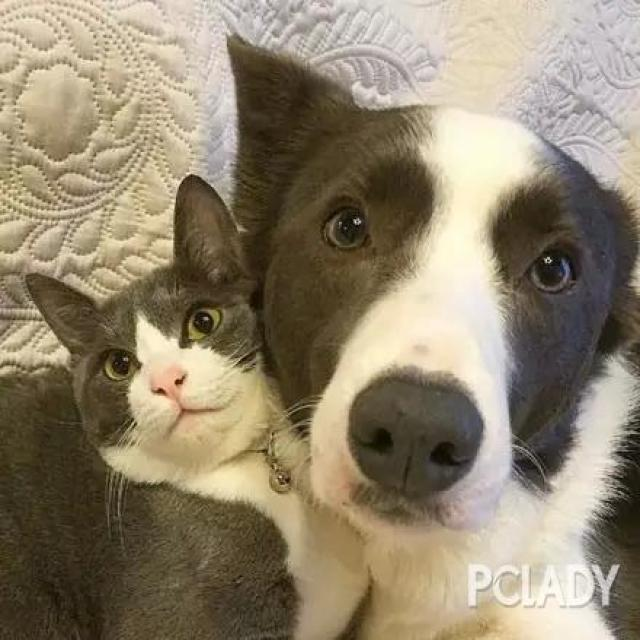cat: (16, 162, 276, 516)
dog: (221, 10, 640, 573)
